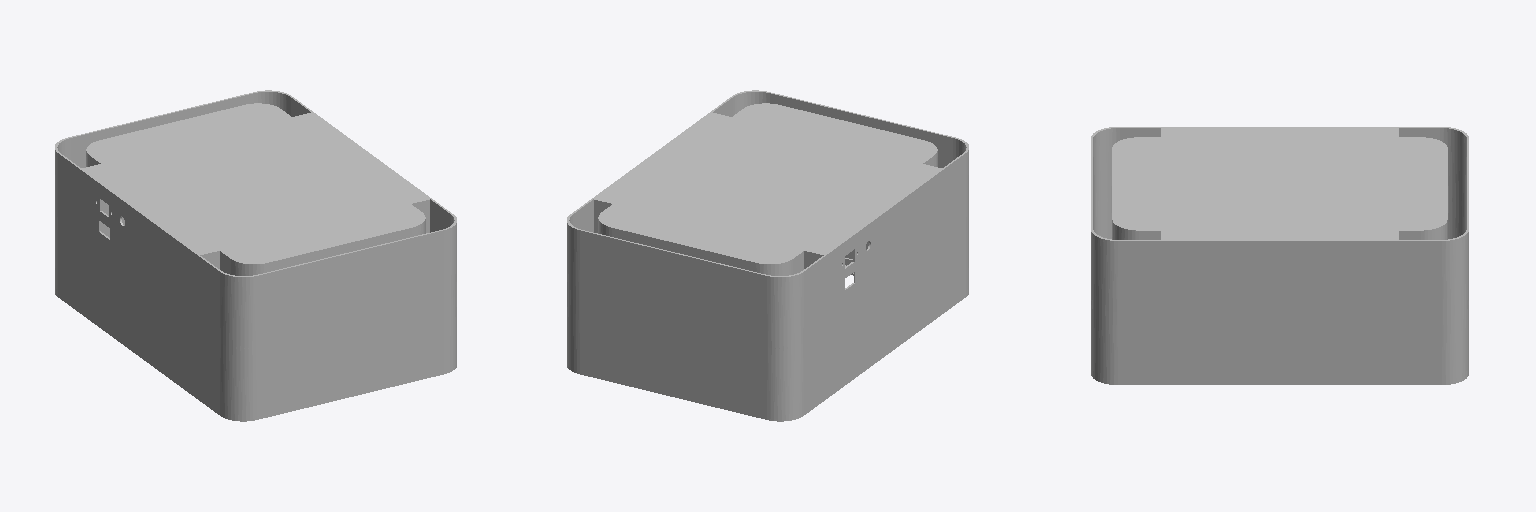
The picture shows the model from 3 angles: view 1: azimuth 30°, elevation 25°; view 2: azimuth 150°, elevation 25°; view 3: azimuth 270°, elevation 25°; orthographic projection.
Visible parts, largest first — view 1: Volumenkörper2, Volumenkörper4; view 2: Volumenkörper2, Volumenkörper4; view 3: Volumenkörper2, Volumenkörper4.
Part boxes in pixels (left/top/right/bottom): Volumenkörper2: left=55, top=90, right=456, bottom=419; Volumenkörper4: left=55, top=293, right=456, bottom=421; Volumenkörper2: left=567, top=90, right=968, bottom=419; Volumenkörper4: left=567, top=258, right=968, bottom=421; Volumenkörper2: left=1091, top=127, right=1468, bottom=382; Volumenkörper4: left=1091, top=374, right=1468, bottom=384.
Bounding box in the file's own units: 250 × 147 × 350.